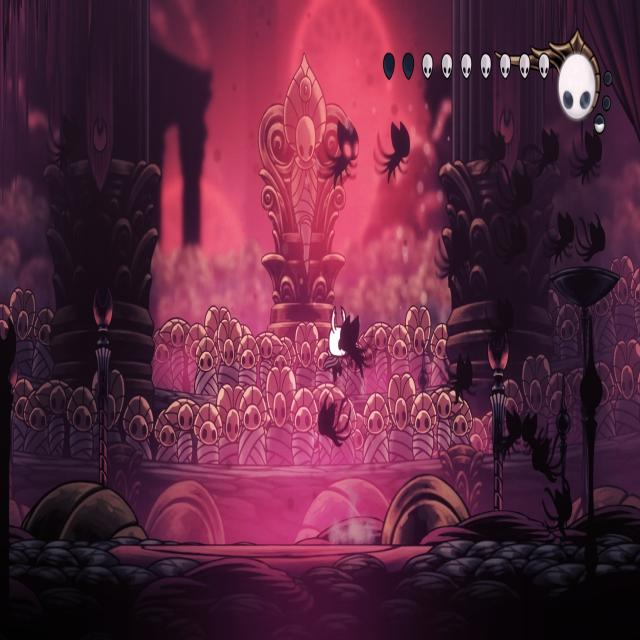Player: (320, 300, 350, 386)
Staggered_Grimm: (316, 115, 361, 195)
